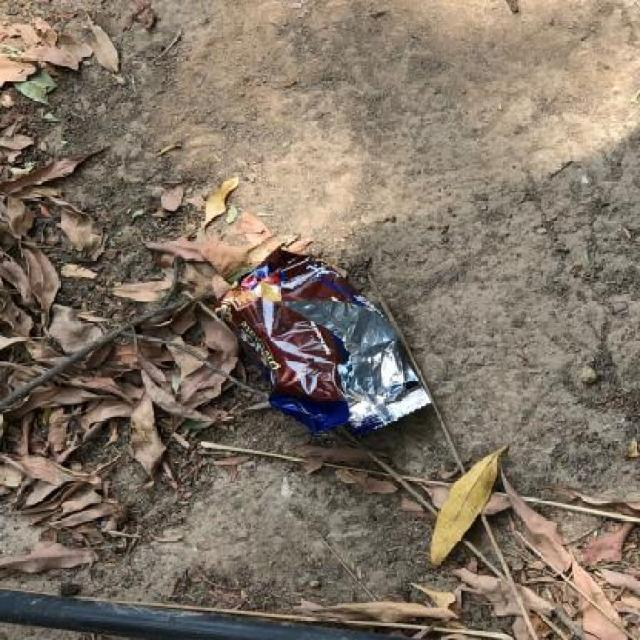garbage: (3, 3, 214, 564), (200, 245, 446, 457), (360, 474, 633, 632)
